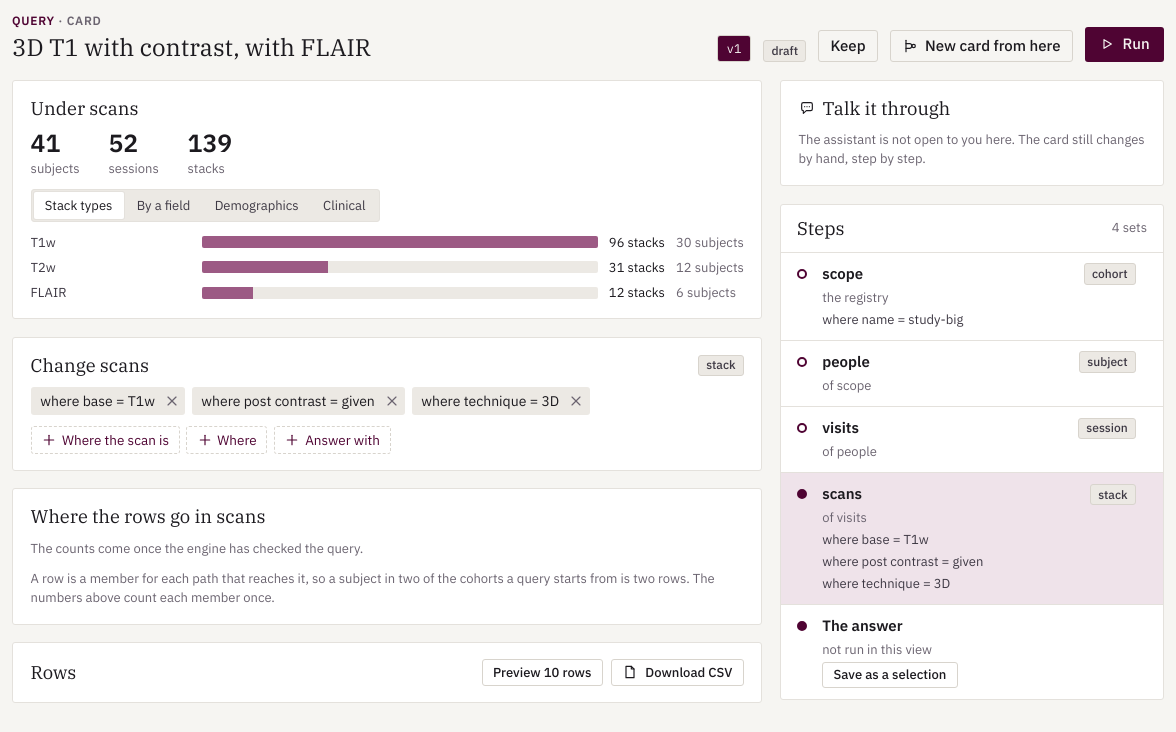
a card › says draft and offers Keep, then says kept and offers Unkeep, each the engine's door and the card read again
The width and height of the screenshot is (1176, 732).
Click the button "Keep": (848, 46) left=818, top=30, right=878, bottom=62
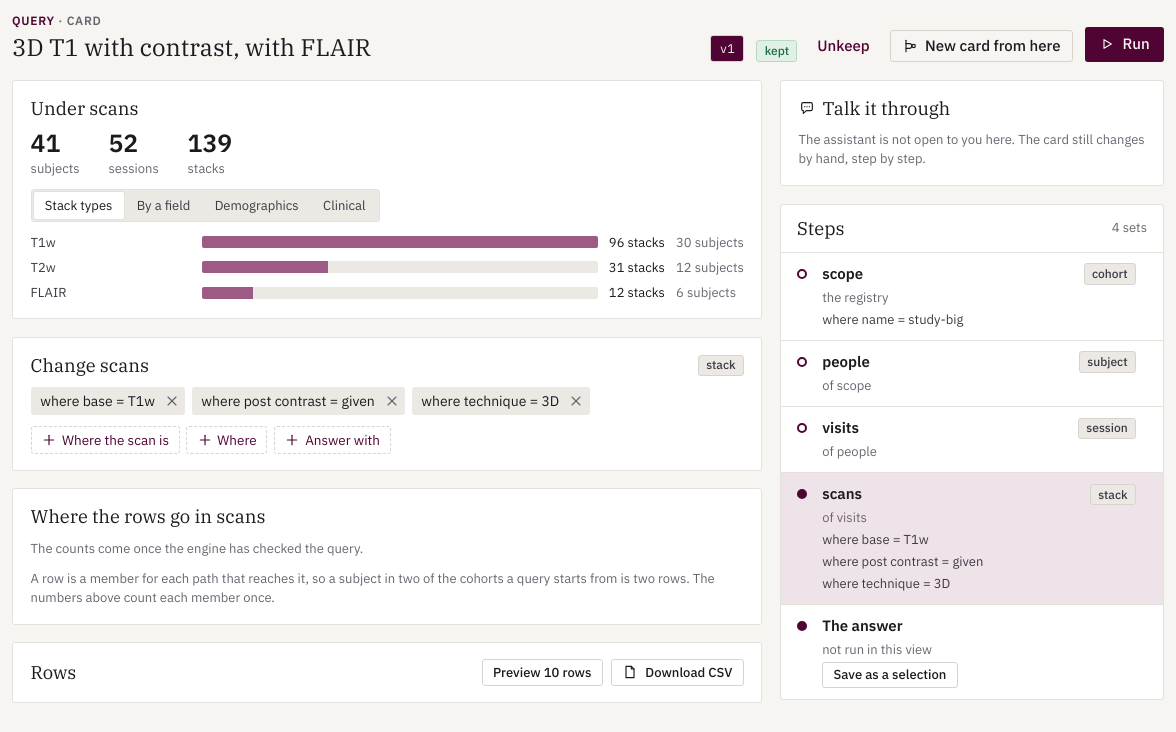
Check: the text with class "tag" reads "kept", box left=765, top=43, right=789, bottom=58
Click the button "Unkeep": (844, 46) left=809, top=30, right=878, bottom=62
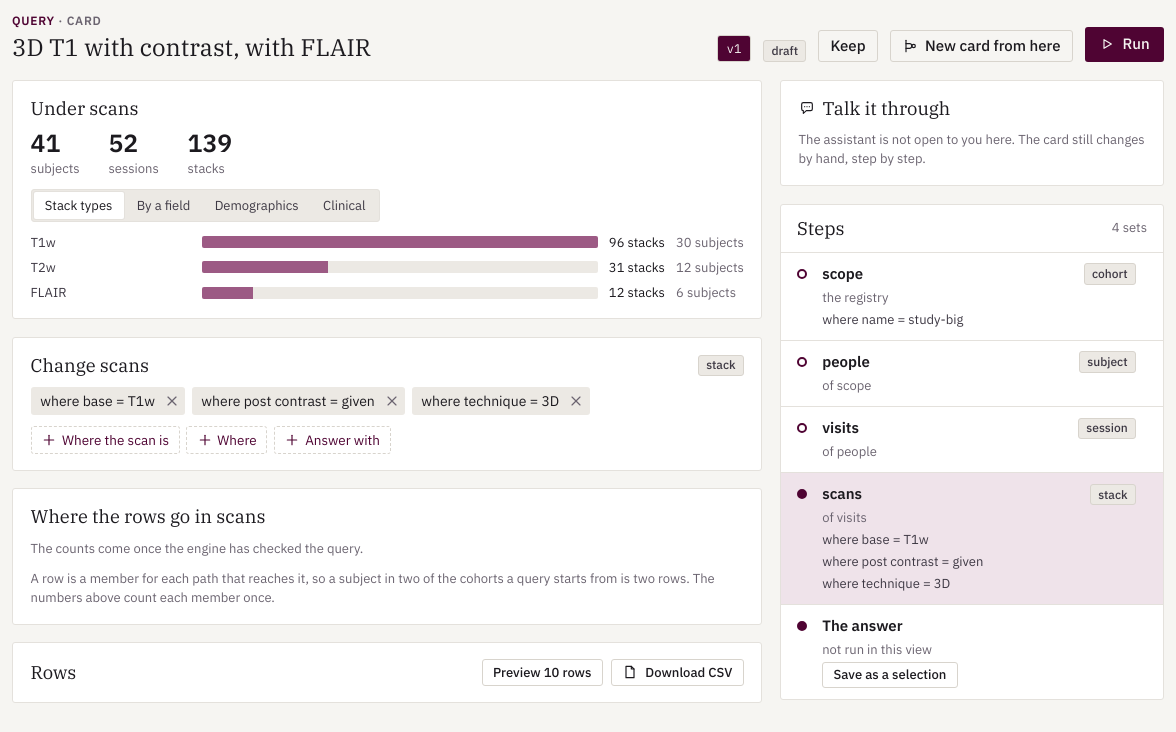
Check: the button "Keep" is shown, box left=818, top=30, right=878, bottom=62
Check: the text with class "tag" reads "draft", box left=771, top=43, right=798, bottom=58
